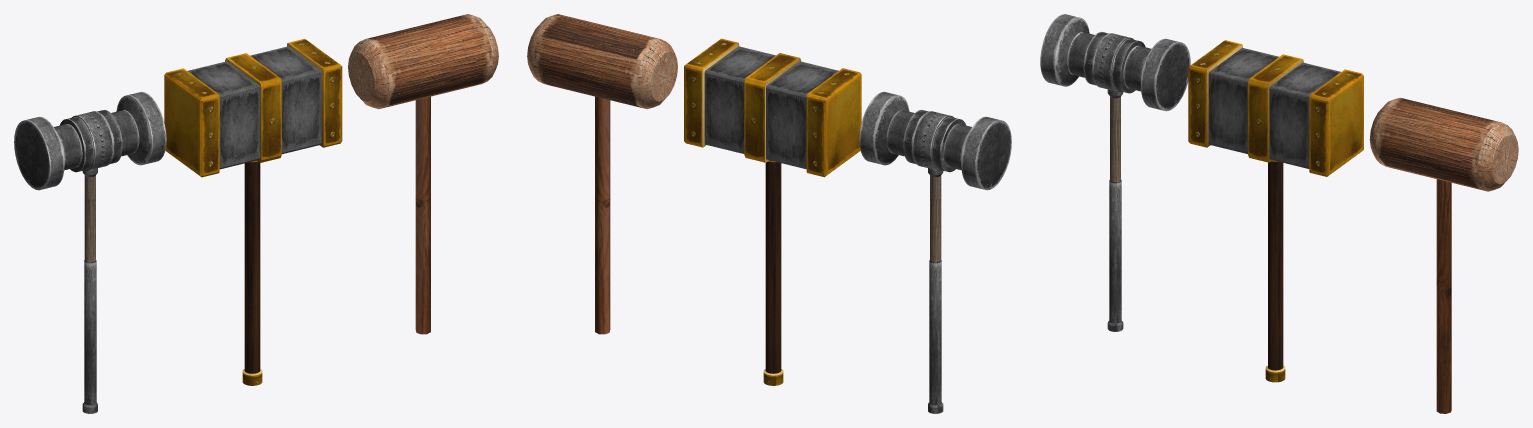
File: Mazos de dos manos.fbx
3 views of the same model, side by side, from view 1: azimuth 30°, elevation 25°; view 2: azimuth 150°, elevation 25°; view 3: azimuth 330°, elevation 25° (orthographic).
Parts seen in each view (by area): view 1: Cylinder.005, Cylinder.012, iron war hammer; view 2: Cylinder.005, Cylinder.012, iron war hammer; view 3: Cylinder.005, Cylinder.012, iron war hammer.
Boxes of the visible parts, x1,y1,x2,y2 form: Cylinder.005: [164, 38, 342, 385]; Cylinder.012: [348, 14, 498, 334]; iron war hammer: [14, 91, 166, 413]; Cylinder.005: [684, 38, 861, 385]; Cylinder.012: [527, 14, 677, 334]; iron war hammer: [859, 91, 1011, 413]; Cylinder.005: [1188, 40, 1363, 382]; Cylinder.012: [1369, 97, 1518, 413]; iron war hammer: [1040, 14, 1190, 331].
Bounding box in the file's own units: 277 × 183 × 39.01.
3 materials, 3 textured.
